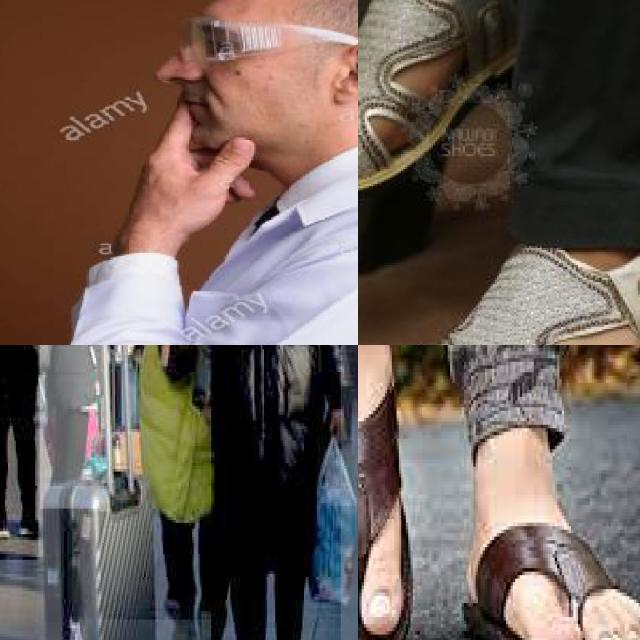No_Ear-Protection: (324, 34, 358, 114)
Sandals: (358, 222, 640, 345), (464, 469, 640, 640), (358, 345, 414, 640)
face_nomask: (143, 0, 260, 149)
glasses: (176, 12, 358, 72)
hand_noglove: (147, 98, 266, 226)
person: (109, 0, 358, 345), (211, 345, 342, 640), (99, 345, 225, 622), (39, 345, 110, 511), (0, 345, 39, 562), (329, 345, 358, 505)
shoes: (17, 489, 41, 540), (0, 490, 11, 541)
